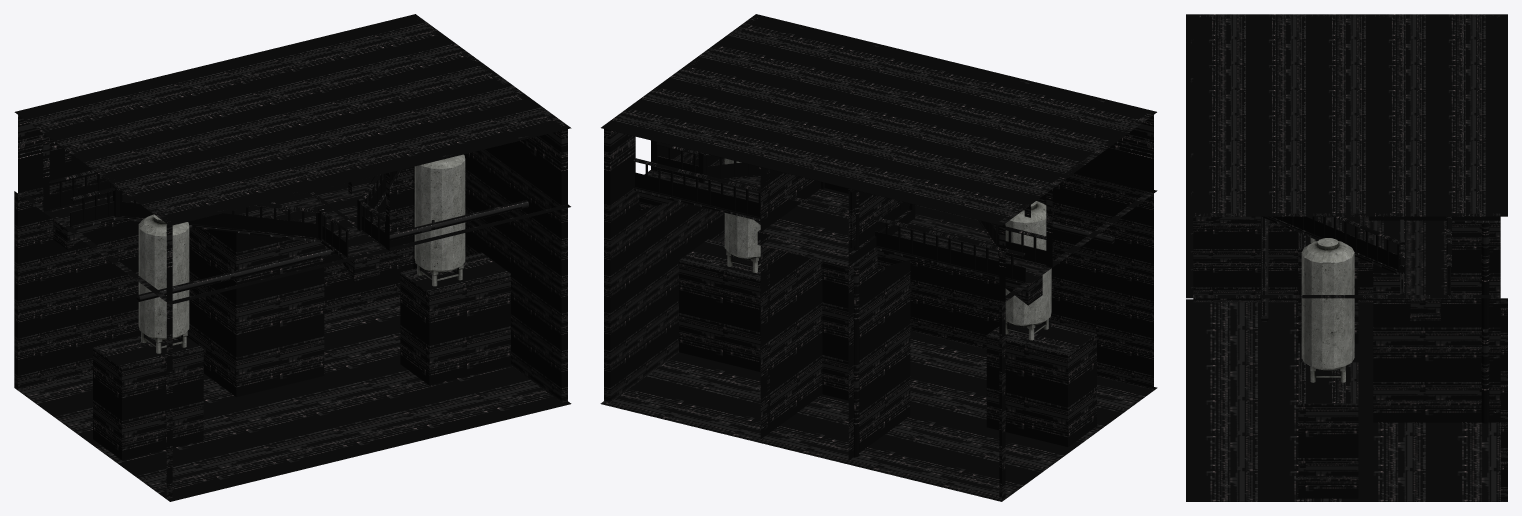
Rendered from room3pit_opt.obj.
The picture shows the model from 3 angles, left to right: view 1: azimuth 30°, elevation 25°; view 2: azimuth 150°, elevation 25°; view 3: azimuth 270°, elevation 25°; orthographic projection. The views are drawn at different scales.
Bounding box in the file's own units: 2048 × 1346 × 1376.
